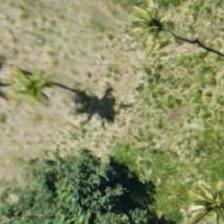Kelapa_Sawit: (169, 156, 223, 223)
